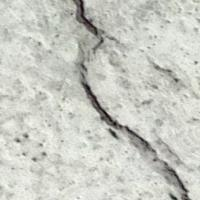crack: (65, 0, 191, 200)
